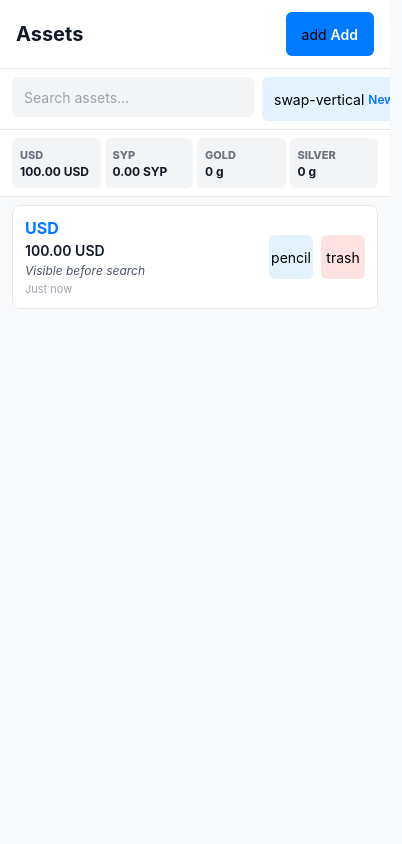
Test: Assets screen › shows a reset action when filters hide all assets
This screenshot has width=402, height=844.
In the field labelled "Search assets": (133, 97) [12,77,254,117], type "gold"
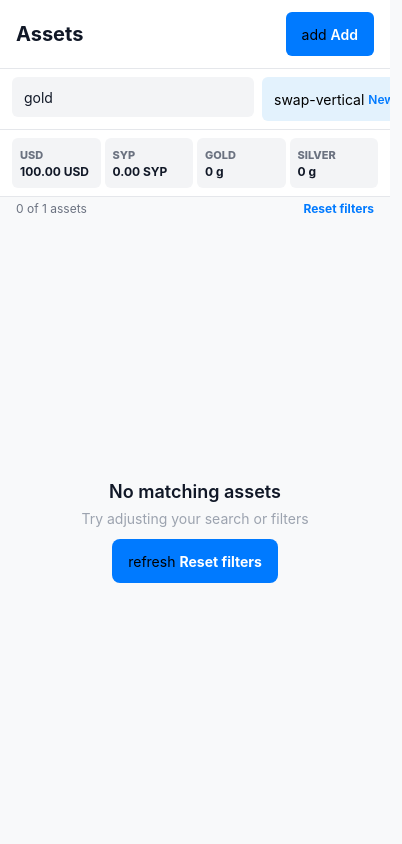
Click the button labelled "Reset filters": (339, 208) [303,201,374,216]
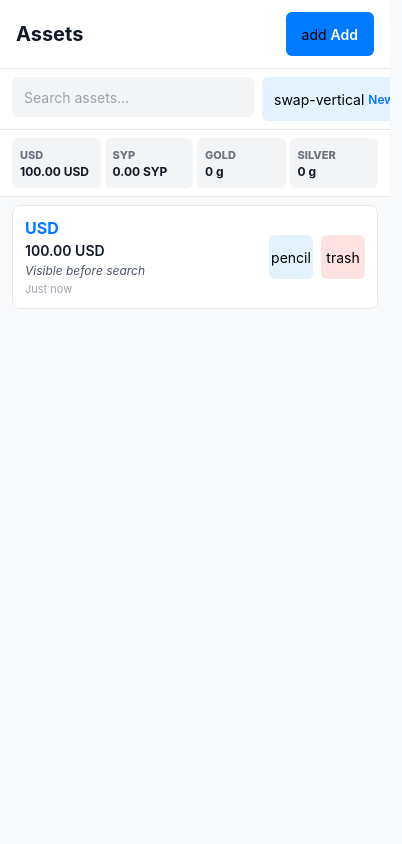
expect the button labelled "Reset filters" is gone: met
expect the element named "USD asset: 100.00 USD, note: Visible before search" is shown: met, box [12,205,378,309]
